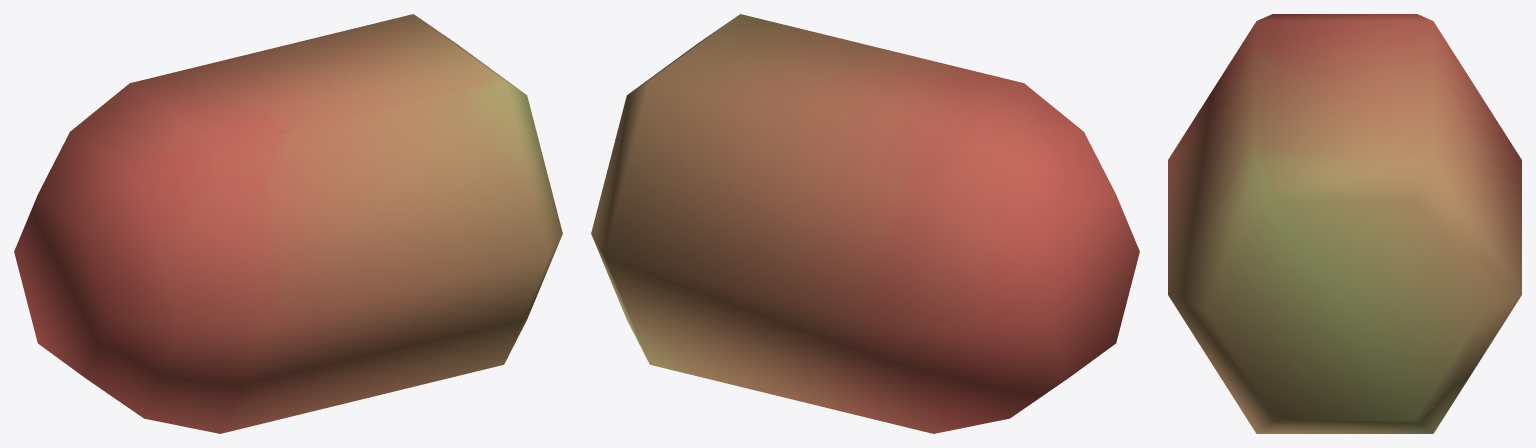
Rendered from sticky.fbx.
The picture shows the model from 3 angles, left to right: view 1: azimuth 30°, elevation 25°; view 2: azimuth 150°, elevation 25°; view 3: azimuth 270°, elevation 25°; orthographic projection. The views are drawn at different scales.
Parts seen in each view (by area): view 1: sticky; view 2: sticky; view 3: sticky.
Boxes of the visible parts, bbox=[...] form: sticky: bbox=[14, 14, 562, 433]; sticky: bbox=[591, 14, 1139, 433]; sticky: bbox=[1168, 14, 1521, 433].
Size of the model in its own units: 179 by 113 by 131.
Materials: 1 (1 with a texture image).
